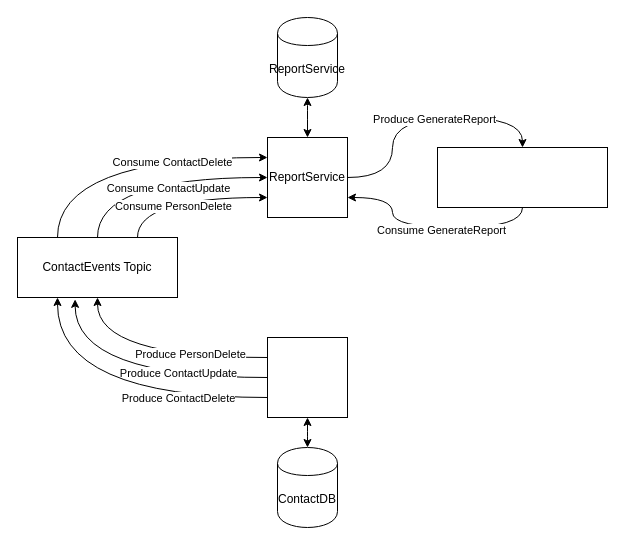
Image size: 625x545. Some labels were removed from this diagram. The shapes that lost their labels are listed below. From the top down, each one's box as (x1, y1, x2, y2) in pixels, then its label:
(436, 146, 608, 208): ReportEvents Topic
(266, 336, 348, 418): ContactService
